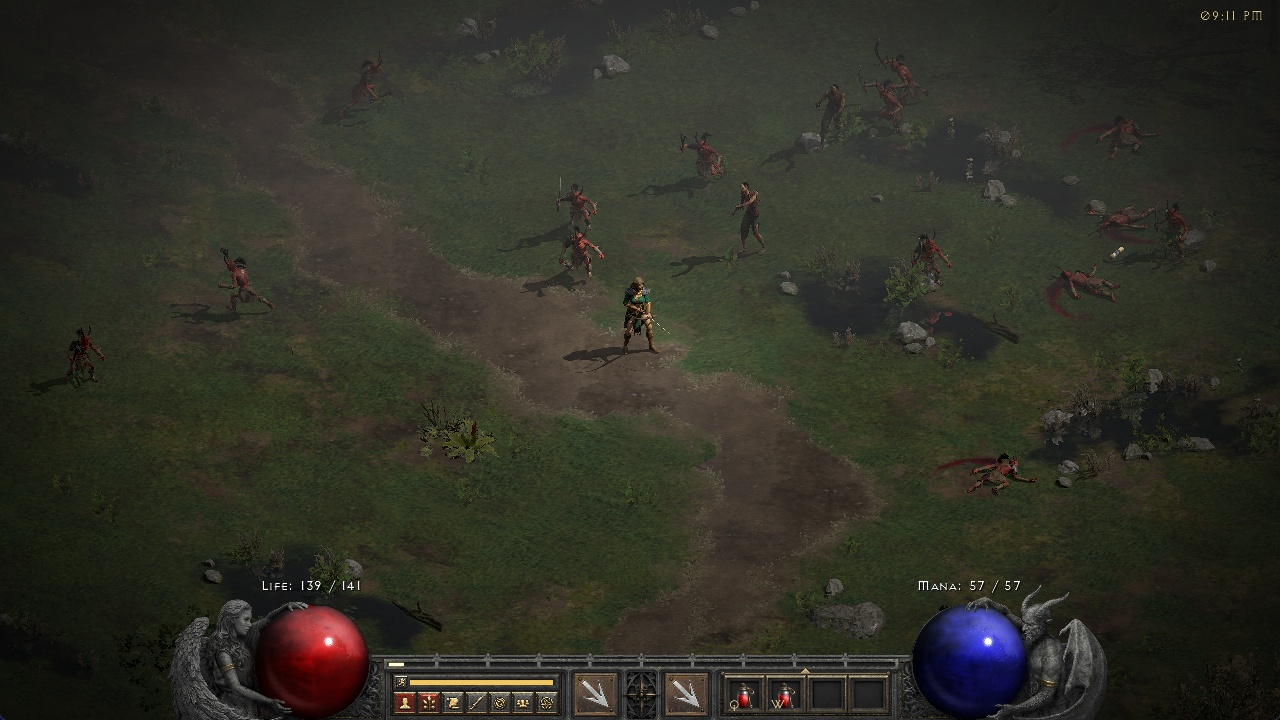fallen: (213, 251, 273, 315), (339, 49, 388, 121), (908, 225, 954, 287), (1155, 199, 1197, 254), (859, 72, 906, 121), (681, 128, 728, 176), (555, 179, 605, 224), (556, 231, 608, 274), (66, 325, 104, 379), (871, 45, 910, 72)
